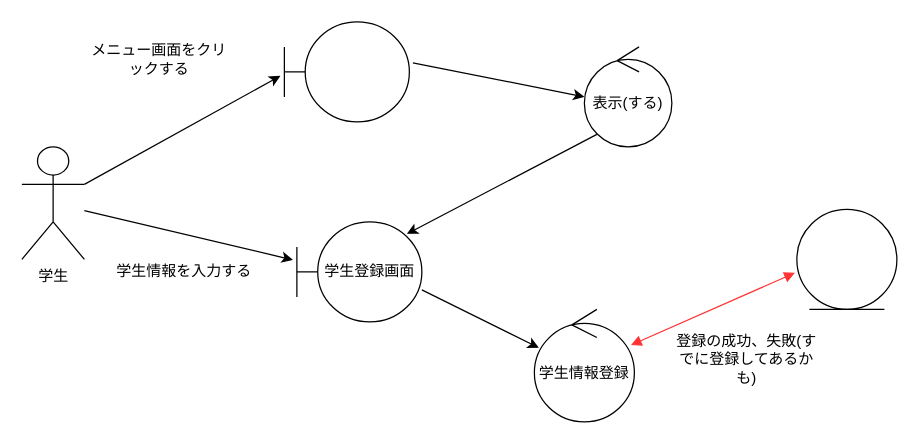
This 919x444 diagram has some shape labels left out. Here are the shapes that lost their labels. From the top down, the centre of each, then its label:
point (346, 71): メニュー画面
point (846, 258): 学生オブジェクト
